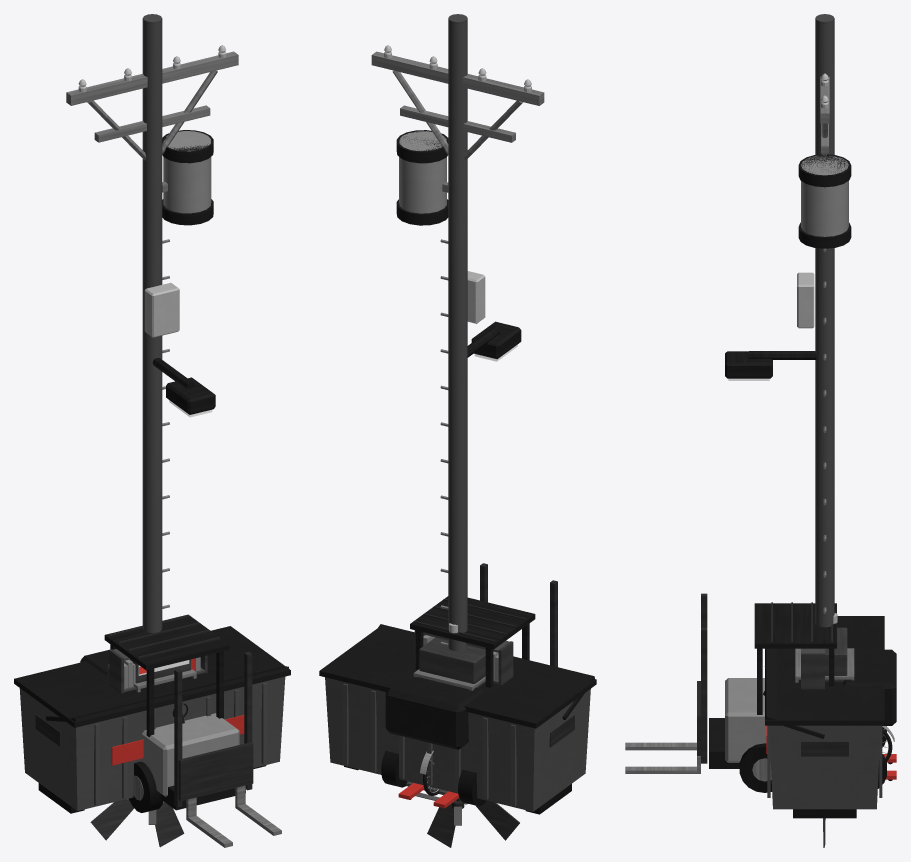
File: depot-DUO_zxTQ.glb
The picture shows the model from 3 angles, left to right: view 1: azimuth 30°, elevation 25°; view 2: azimuth 150°, elevation 25°; view 3: azimuth 270°, elevation 25°; orthographic projection.
Visible parts, largest first — view 1: dumpster__body, utility_pole__body, forklift__body, fan_rotor__body, street_lamp__body, shelf_binders__body; view 2: dumpster__body, utility_pole__body, forklift__body, vending__body, fan_rotor__body, street_lamp__body, shelf_binders__body, pallet_truck__body; view 3: dumpster__body, utility_pole__body, forklift__body, street_lamp__body, shelf_binders__body, vending__body, roll_cage__body.
Part boxes in pixels (left/top/right/bottom): dumpster__body: left=14, top=626, right=290, bottom=813; utility_pole__body: left=66, top=14, right=238, bottom=633; forklift__body: left=80, top=614, right=281, bottom=847; fan_rotor__body: left=90, top=799, right=184, bottom=847; street_lamp__body: left=152, top=358, right=215, bottom=414; shelf_binders__body: left=109, top=649, right=207, bottom=693; dumpster__body: left=319, top=624, right=596, bottom=814; utility_pole__body: left=371, top=14, right=544, bottom=651; forklift__body: left=381, top=563, right=557, bottom=806; vending__body: left=419, top=637, right=485, bottom=687; fan_rotor__body: left=427, top=799, right=519, bottom=847; street_lamp__body: left=467, top=321, right=521, bottom=359; shelf_binders__body: left=414, top=630, right=513, bottom=685; pallet_truck__body: left=398, top=783, right=459, bottom=808; dumpster__body: left=765, top=616, right=884, bottom=818; utility_pole__body: left=797, top=14, right=851, bottom=648; forklift__body: left=625, top=593, right=896, bottom=792; street_lamp__body: left=725, top=351, right=816, bottom=378; shelf_binders__body: left=801, top=648, right=824, bottom=689; vending__body: left=825, top=627, right=847, bottom=681; roll_cage__body: left=795, top=648, right=854, bottom=682.
Bounding box in the file's own units: 3.1 × 11.37 × 3.4.
3 materials, 3 textured.
